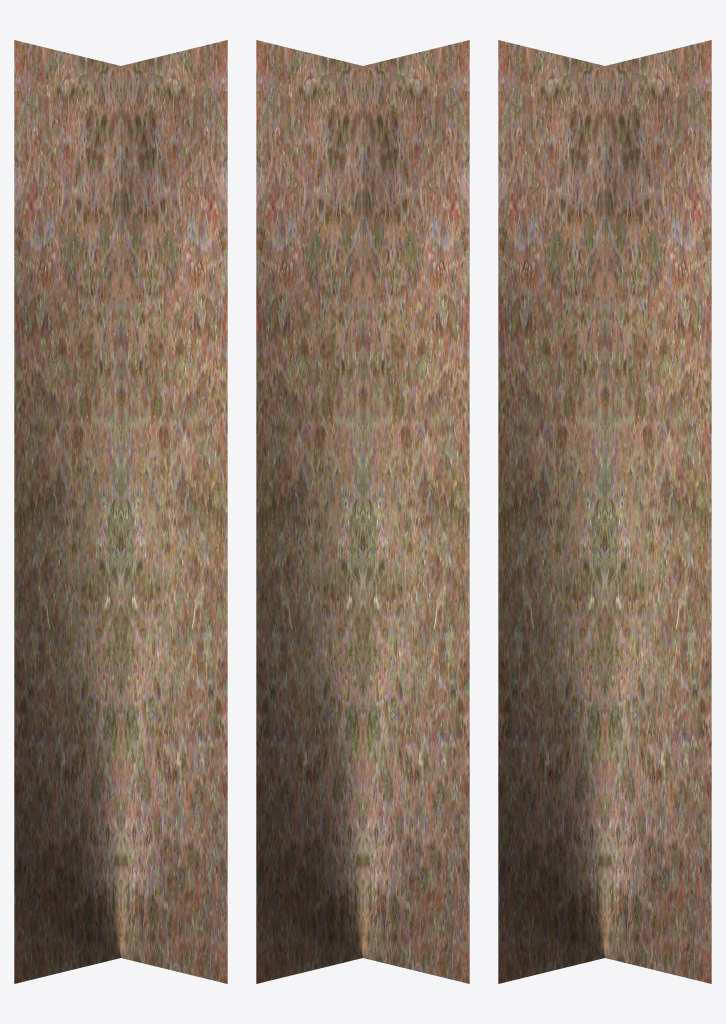
3 views of the same model, side by side, from view 1: azimuth 30°, elevation 25°; view 2: azimuth 150°, elevation 25°; view 3: azimuth 270°, elevation 25° (orthographic).
Parts seen in each view (by area): view 1: tiny_weeds_06; view 2: tiny_weeds_06; view 3: tiny_weeds_06.
Part boxes in pixels (x1,y1,x2,y2): tiny_weeds_06: (14,40,227,983); tiny_weeds_06: (256,40,469,983); tiny_weeds_06: (498,40,711,983).
Bounding box in the file's own units: 16 × 64 × 13.86.
